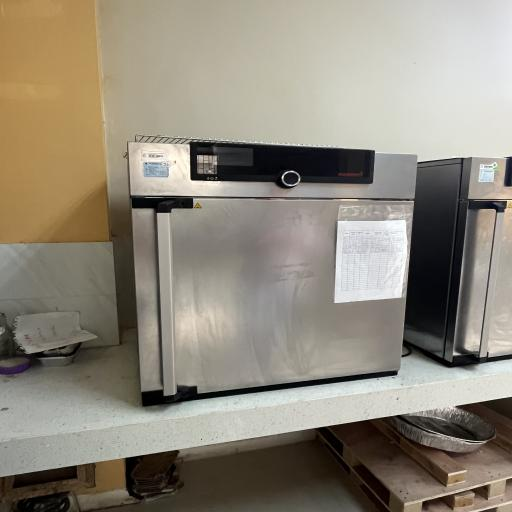Memmert_Unidad2: (112, 123, 429, 415)
